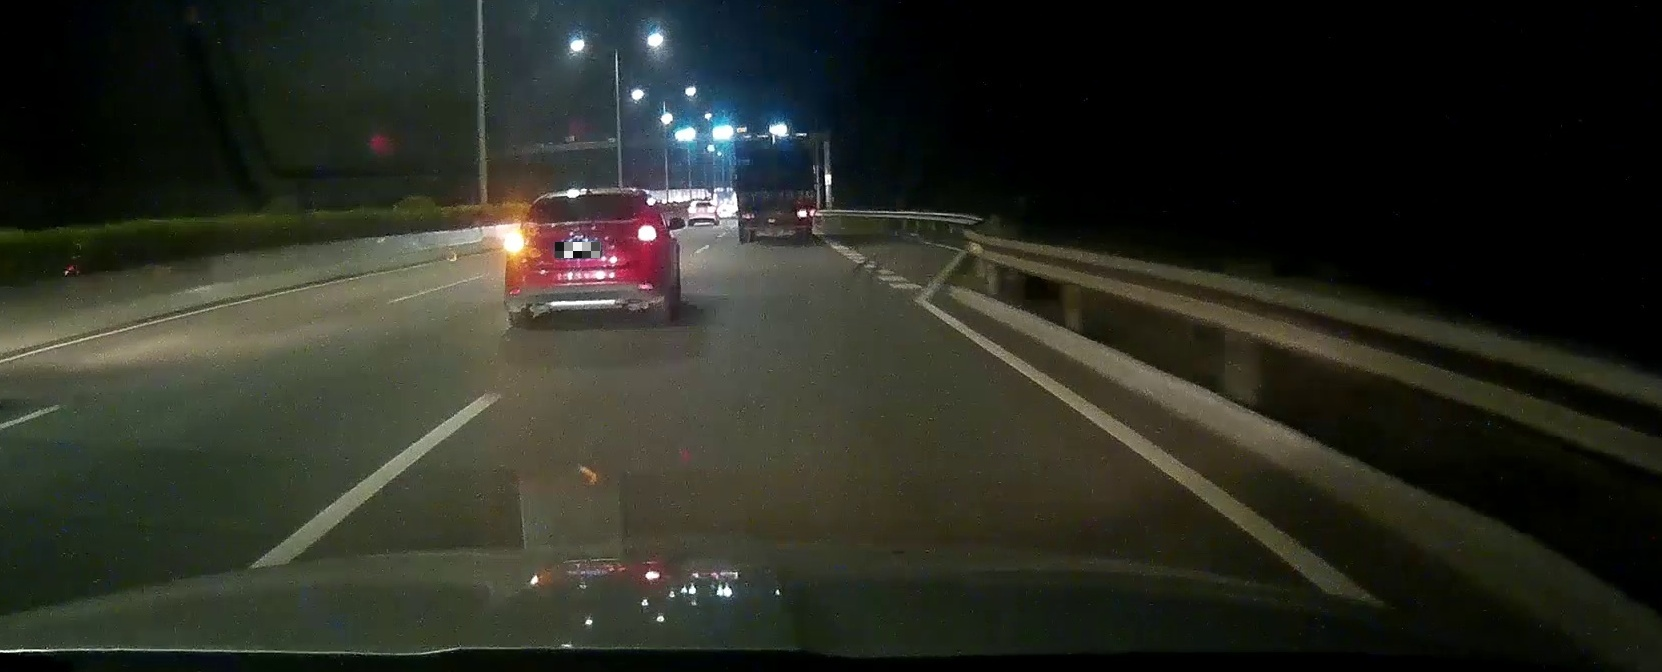L_light: (503, 232, 531, 254), (740, 212, 755, 219)
R_light: (630, 223, 660, 245), (797, 209, 813, 217)
T_light: (574, 194, 602, 202), (767, 190, 784, 195)
night-left: (503, 185, 664, 325)
night-no: (736, 135, 814, 243)
plate_1: (555, 242, 601, 258)
